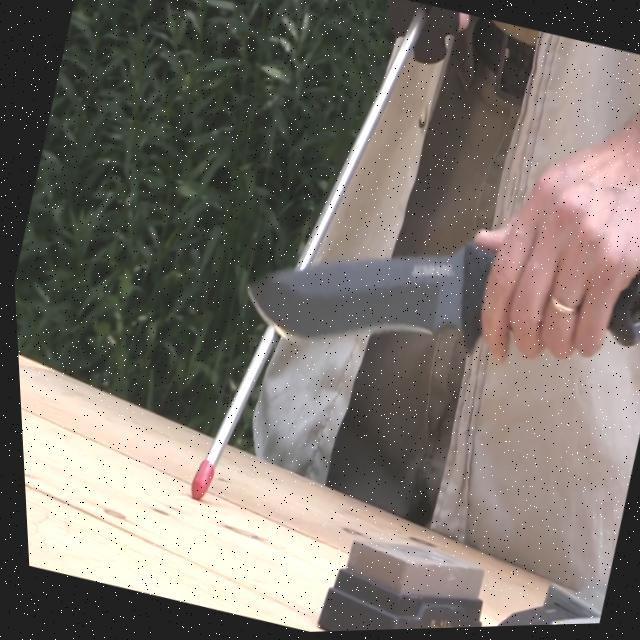knife: (225, 163, 640, 434), (483, 543, 607, 629)
